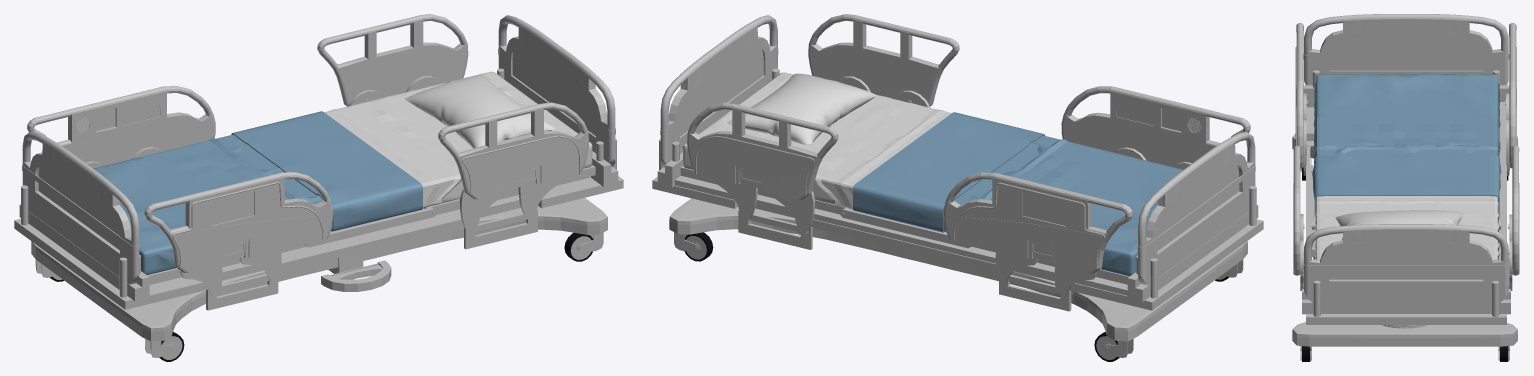
The model's file is hospitalBed.glb.
The picture shows the model from 3 angles, left to right: view 1: azimuth 30°, elevation 25°; view 2: azimuth 150°, elevation 25°; view 3: azimuth 270°, elevation 25°; orthographic projection. The views are drawn at different scales.
Visible parts, largest first — view 1: Hospital Bed; view 2: Hospital Bed; view 3: Hospital Bed.
Boxes of the visible parts, box(x1,y1,x2,y2) form: Hospital Bed: box(14, 14, 623, 361); Hospital Bed: box(652, 14, 1263, 361); Hospital Bed: box(1292, 14, 1519, 361).
Bounding box in the file's own units: 2.38 × 0.7755 × 1.04.
